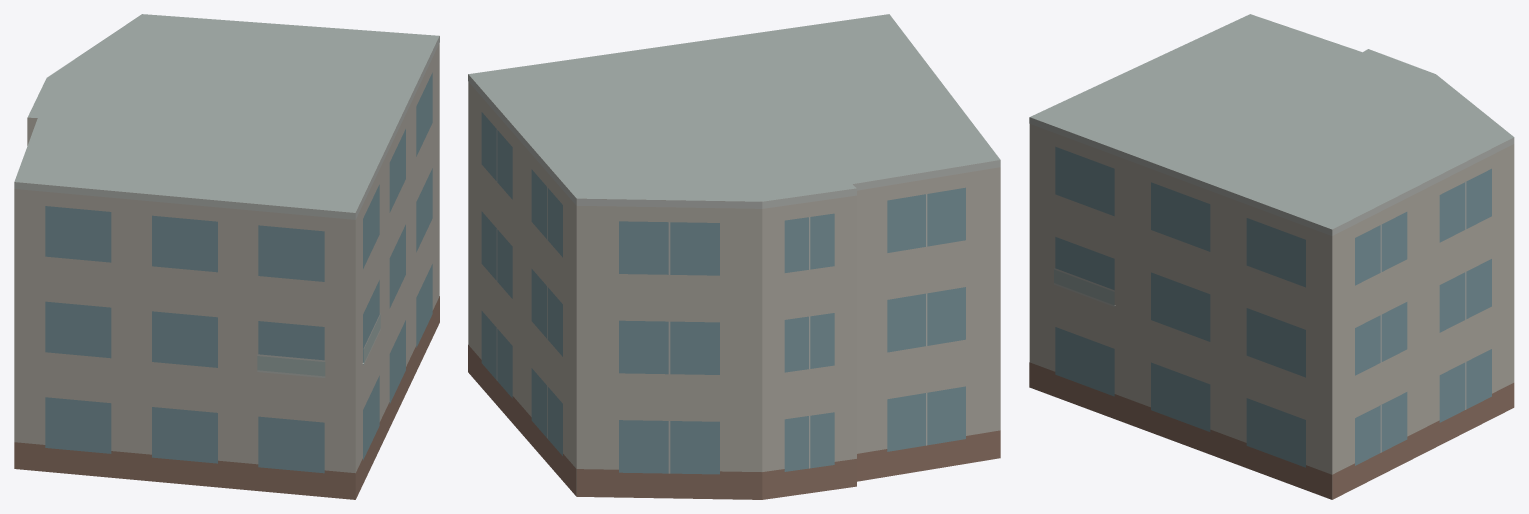
Rendered from survey-upis-32886902.glb.
3 renders of one model, left to right at view 1: azimuth 30°, elevation 25°; view 2: azimuth 150°, elevation 25°; view 3: azimuth 270°, elevation 25°, orthographic. The views are drawn at different scales.
Parts seen in each view (by area): view 1: survey-upis-32886902.tmp; view 2: survey-upis-32886902.tmp; view 3: survey-upis-32886902.tmp.
Part boxes in pixels (bbox=[...]): survey-upis-32886902.tmp: bbox=[14, 14, 439, 499]; survey-upis-32886902.tmp: bbox=[468, 14, 1000, 499]; survey-upis-32886902.tmp: bbox=[1029, 14, 1514, 499].
Bounding box in the file's own units: 17.28 × 10.1 × 16.42.
